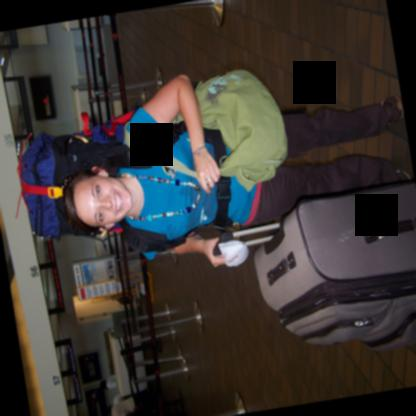backpack: (18, 110, 185, 249)
handbag: (197, 66, 290, 184)
suitcase: (225, 177, 416, 350)
